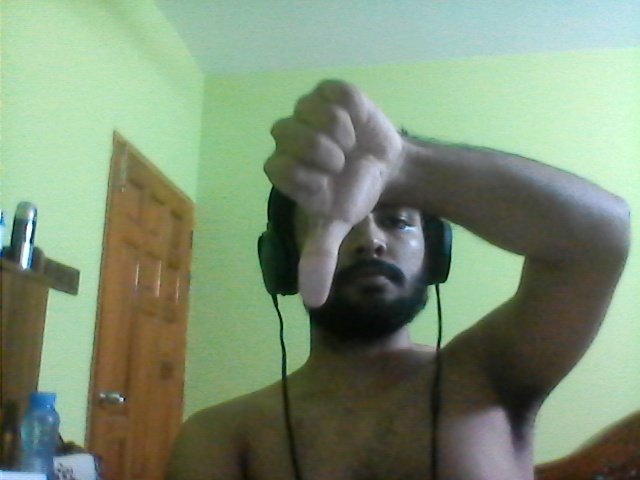No: (245, 72, 409, 321)
